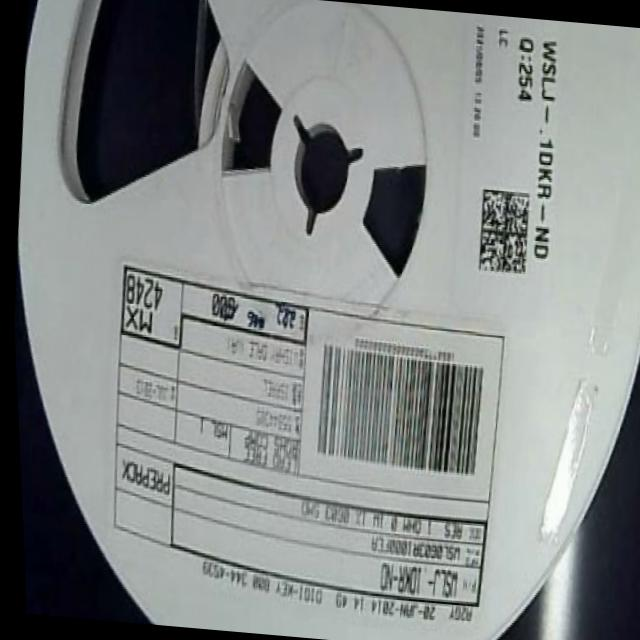datamatrix: (472, 185, 532, 277)
